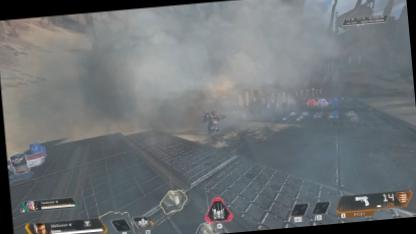Target: (206, 108, 222, 135)
